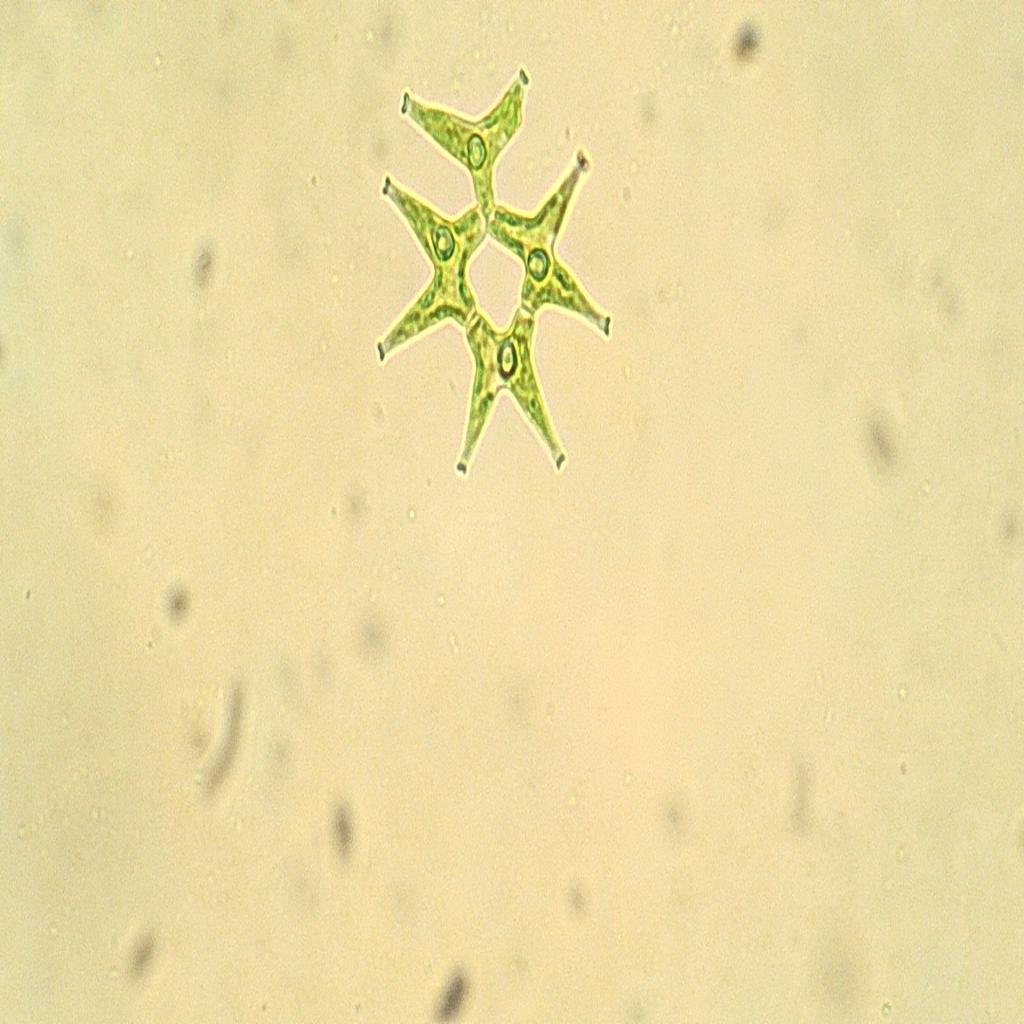Pediastrum_75FI: (357, 52, 620, 514)
